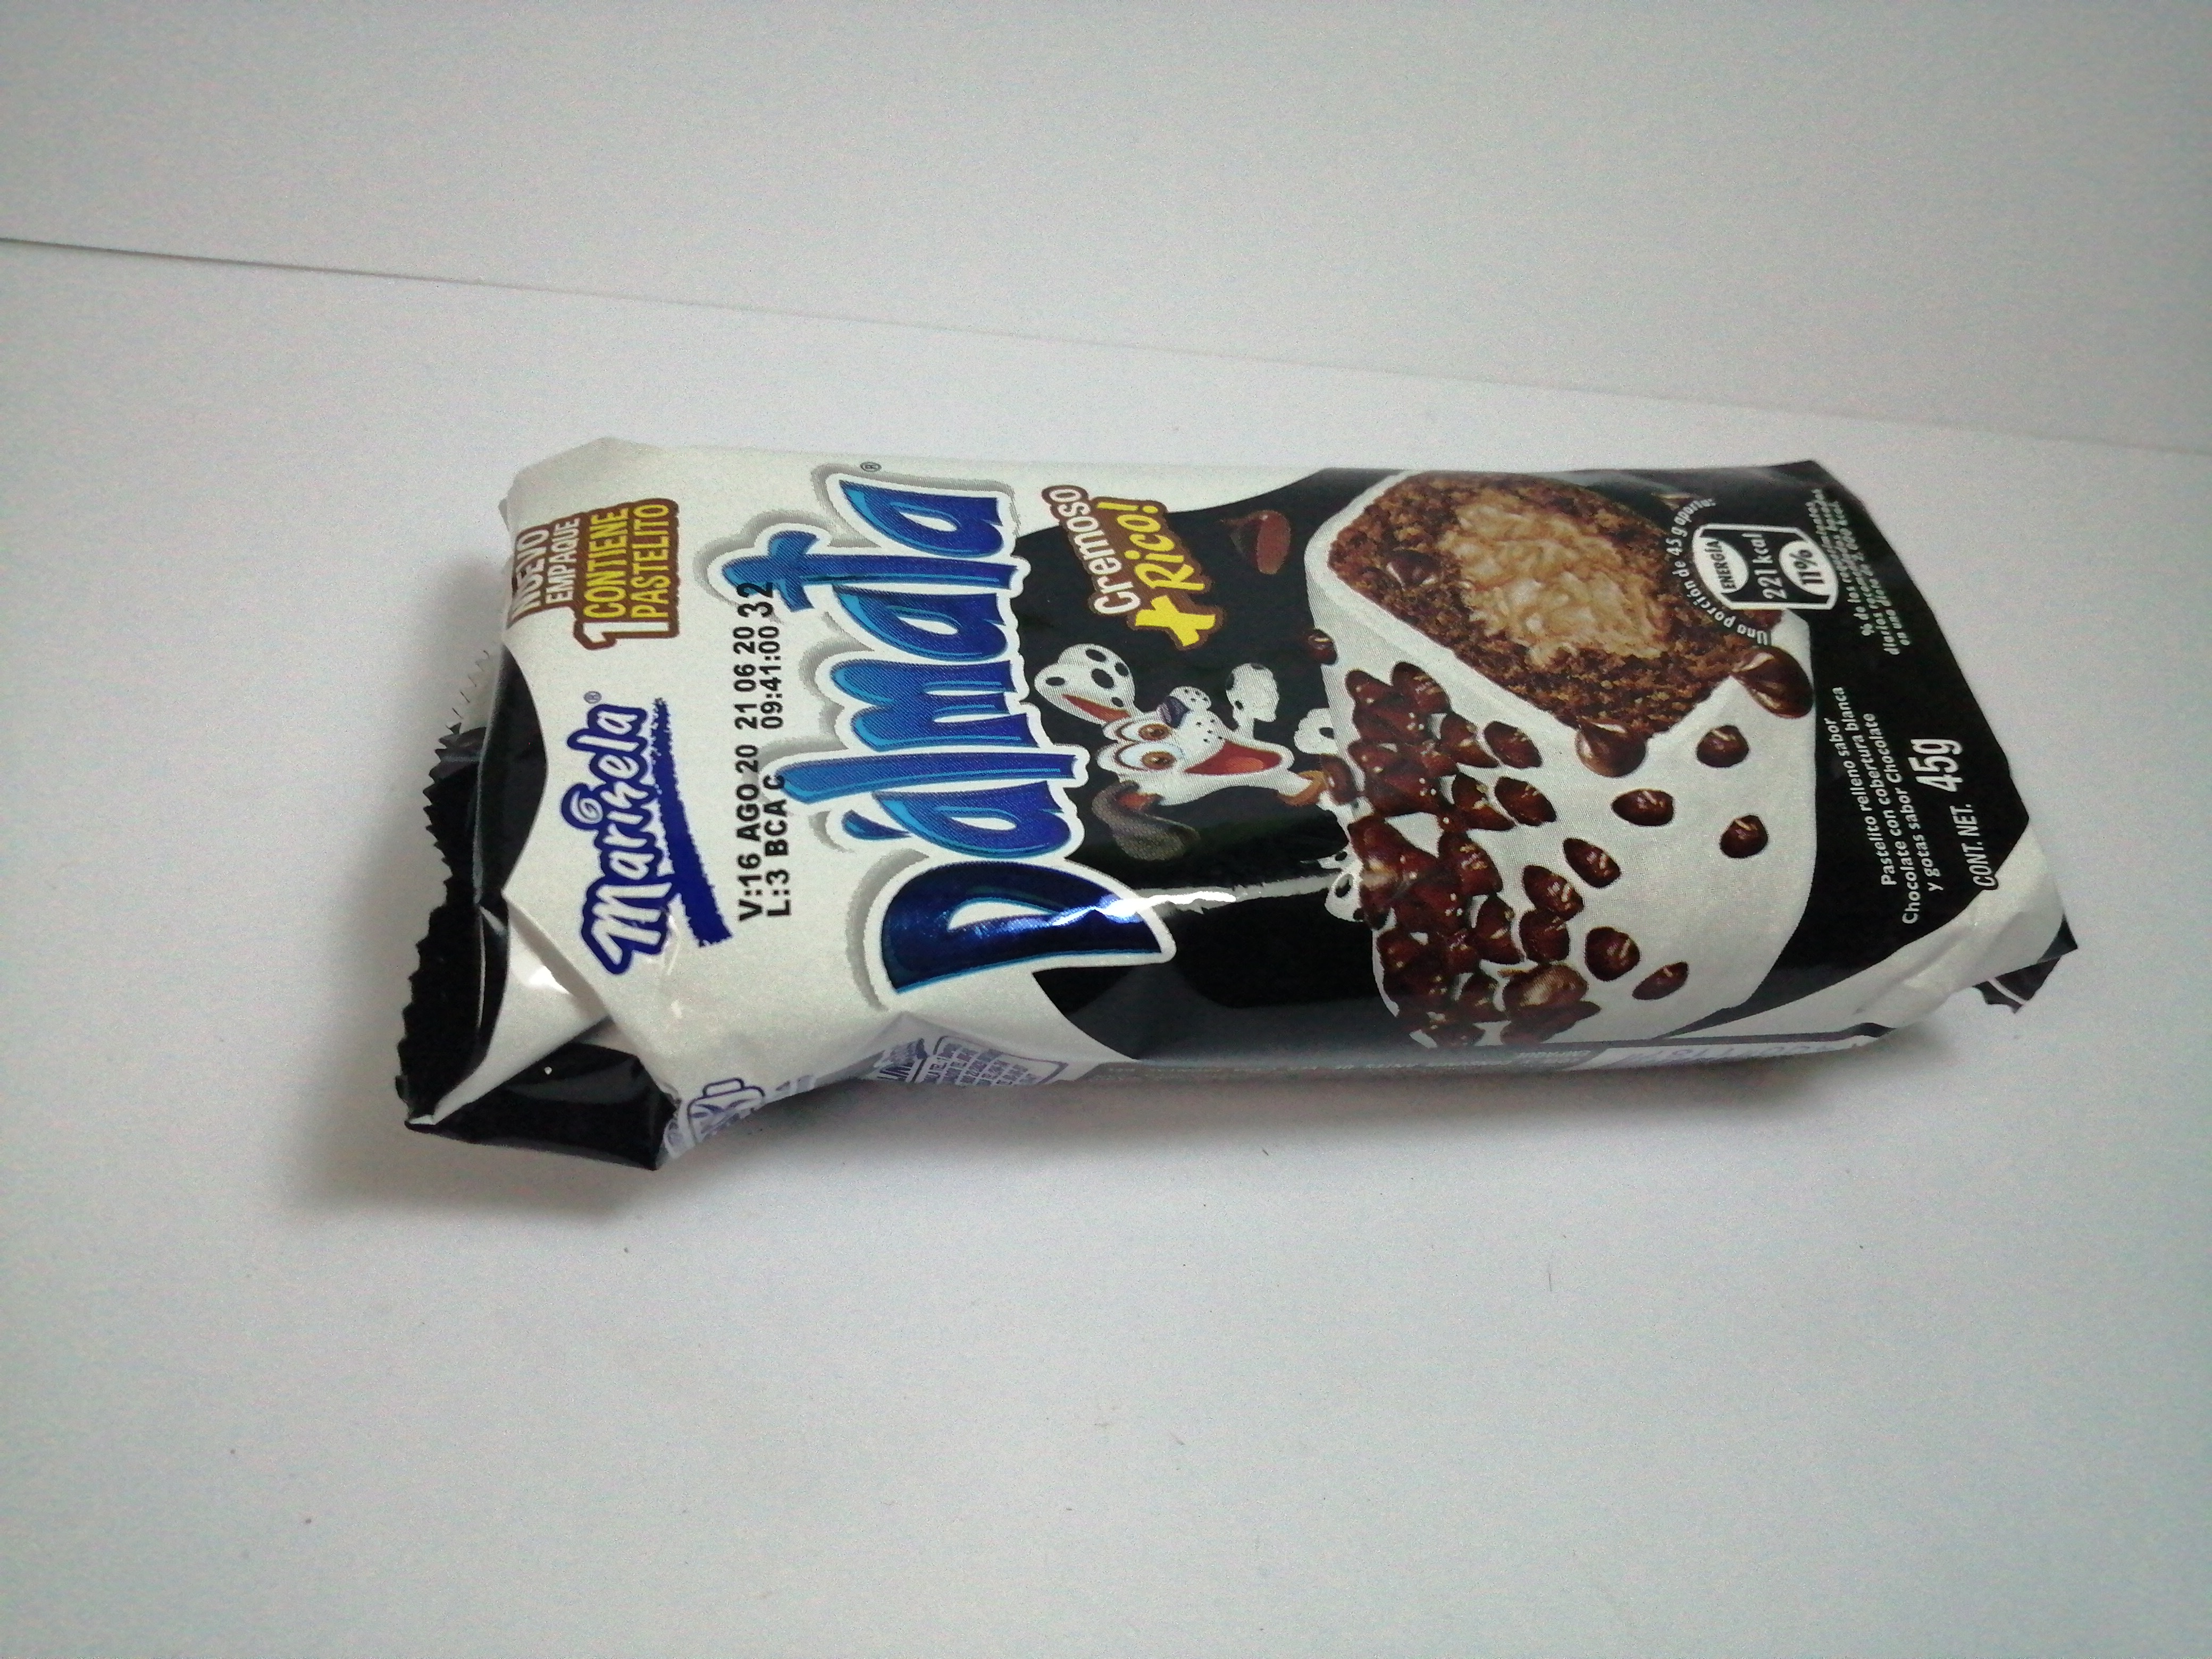dalmata: (387, 401, 2073, 1211)
